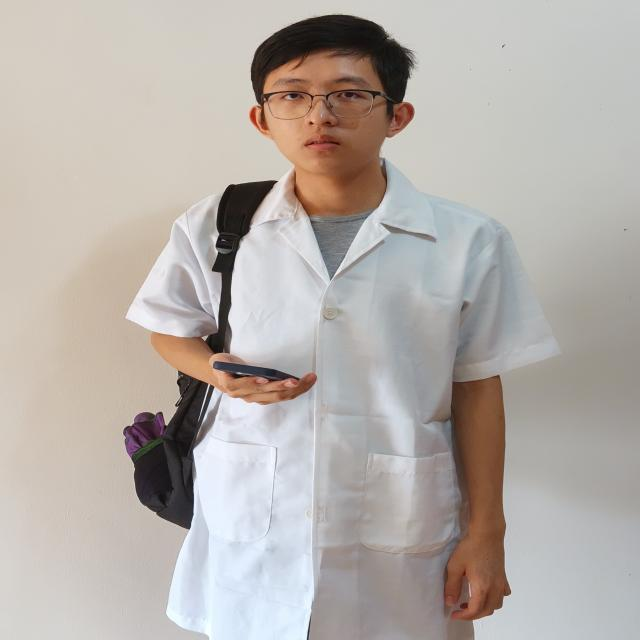person_with_labcoat: (126, 16, 559, 640)
